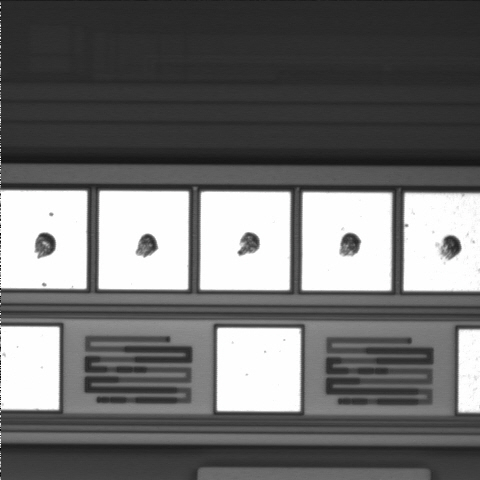pad: (99, 191, 189, 290), (302, 192, 392, 291), (200, 192, 290, 290), (217, 328, 301, 411)
